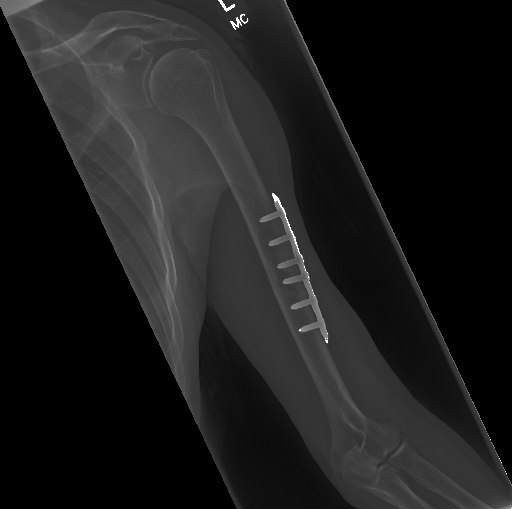implant: (253, 188, 330, 349)
